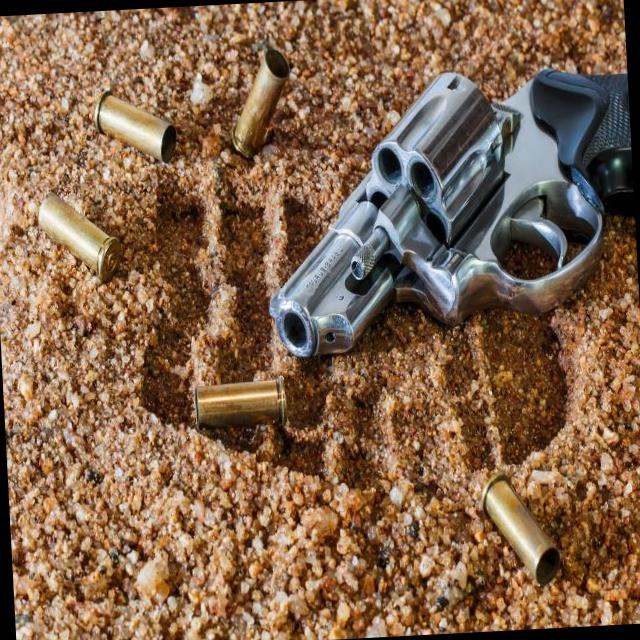Gun: (271, 69, 635, 356)
